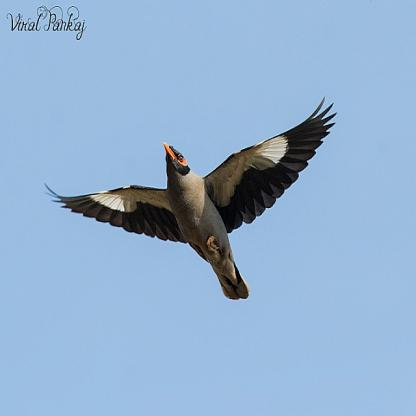Burung: (46, 96, 336, 298)
